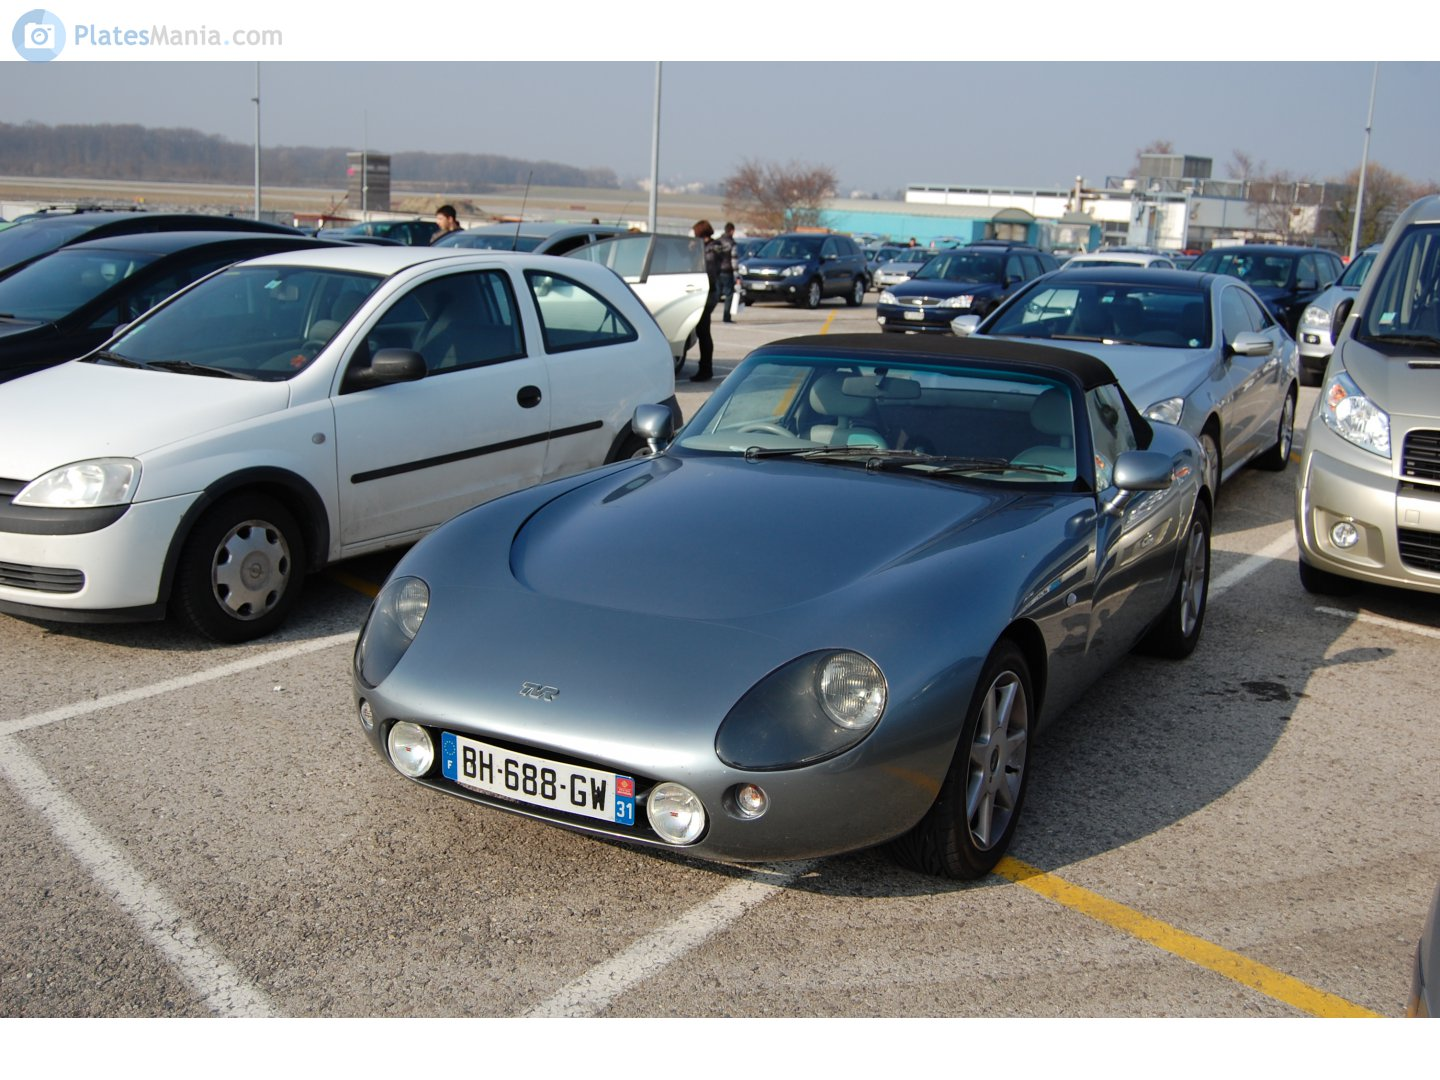licence plate: (435, 727, 641, 828)
